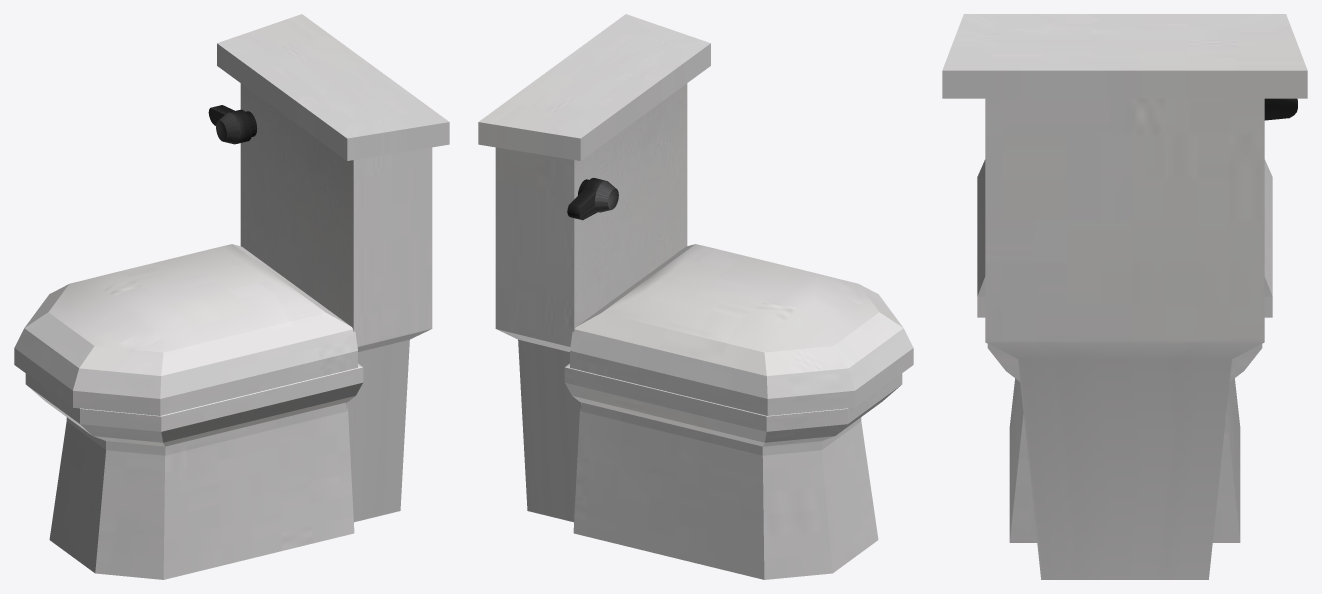
Rendered from toilet_model.fbx.
3 renders of one model, left to right at view 1: azimuth 30°, elevation 25°; view 2: azimuth 150°, elevation 25°; view 3: azimuth 270°, elevation 25°, orthographic. The views are drawn at different scales.
Parts seen in each view (by area): view 1: polySurface2; view 2: polySurface2; view 3: polySurface2.
Part boxes in pixels (x1,y1,x2,y2): polySurface2: (14,14,449,579); polySurface2: (478,14,913,579); polySurface2: (942,14,1307,579).
Bounding box in the file's own units: 0.1894 × 0.2266 × 0.1458.
